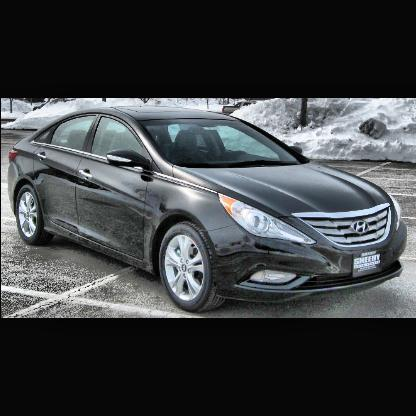Hyundai Sonata Sedan 2012: (7, 106, 410, 315)
